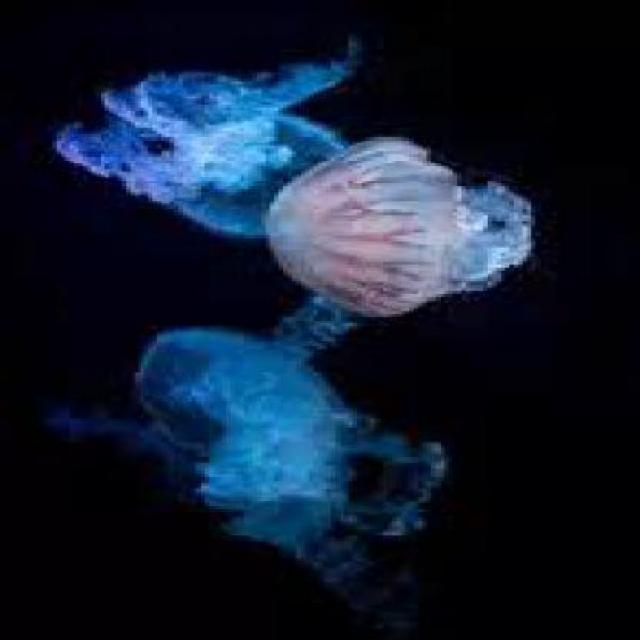Jellyfish: (257, 125, 540, 318)
